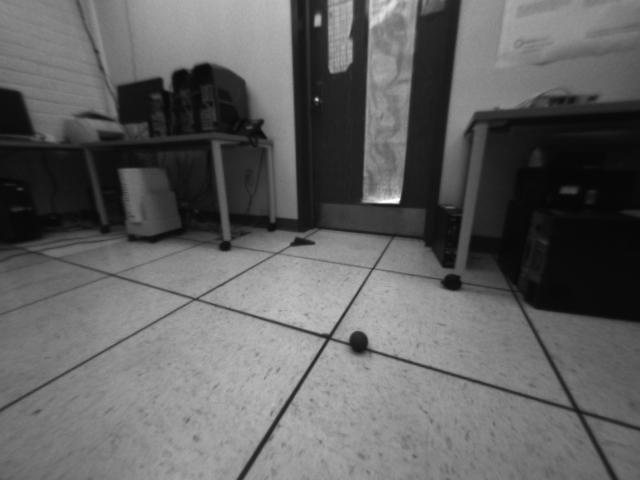dogtoy: (340, 323, 374, 360)
